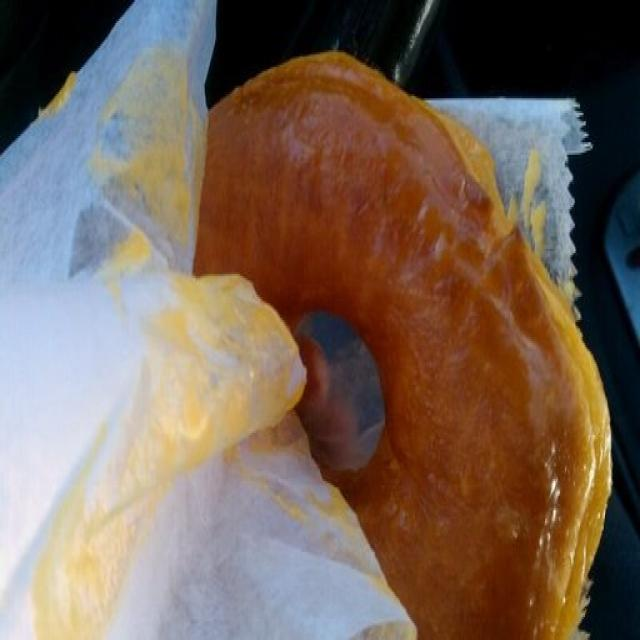Donuts: (174, 27, 623, 640)
